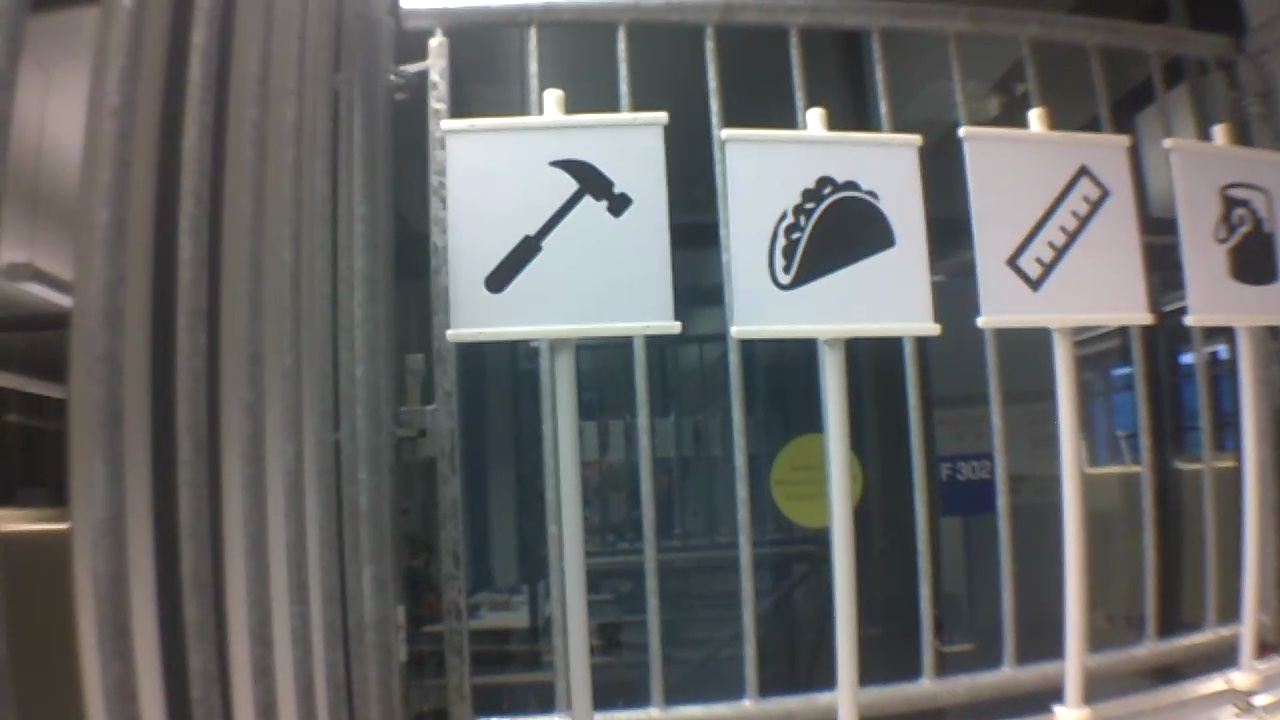bucket: (1201, 176, 1280, 290)
hammer: (475, 155, 640, 303)
ruler: (996, 157, 1116, 298)
taco: (761, 169, 903, 295)
